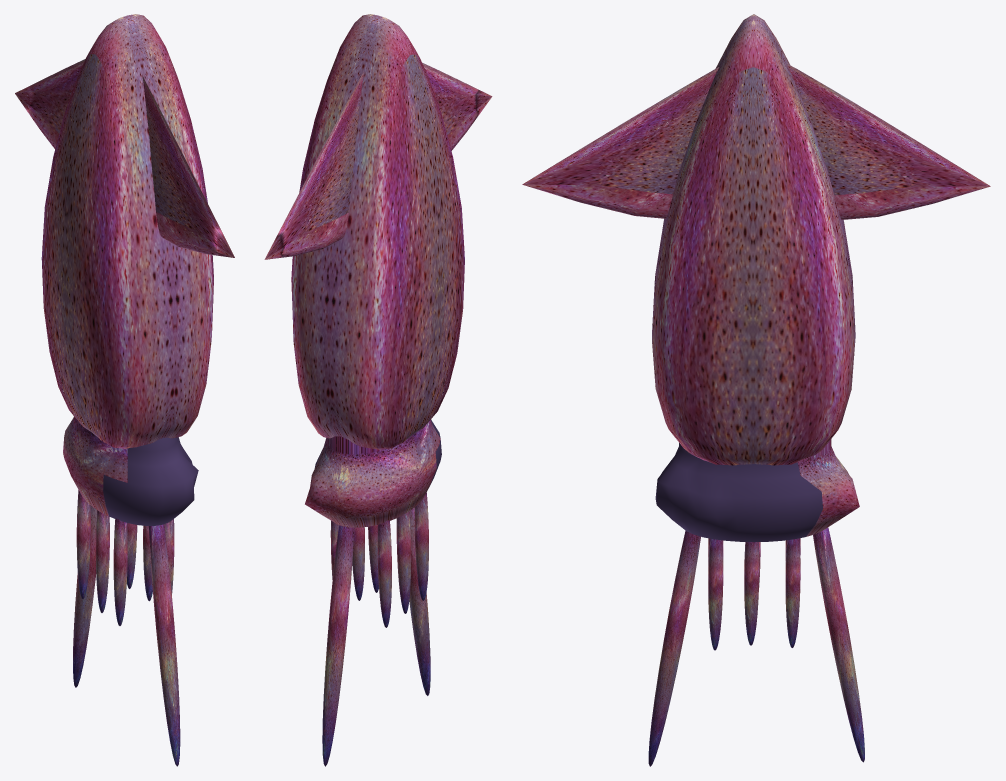
File: Purpleback Squid.glb
3 views of the same model, side by side, from view 1: azimuth 30°, elevation 25°; view 2: azimuth 150°, elevation 25°; view 3: azimuth 270°, elevation 25° (orthographic). The views are drawn at different scales.
Parts seen in each view (by area): view 1: Cube, Sphere, Cube.001, Sphere.001, Sphere.002, Sphere.003, Sphere.005, Sphere.004, Sphere.006, Sphere.007, Sphere.008; view 2: Cube, Sphere, Cube.001, Sphere.002, Sphere.001, Sphere.005, Sphere.003, Sphere.004, Sphere.007, Sphere.008; view 3: Cube, Cube.001, Sphere, Sphere.001, Sphere.002, Sphere.008, Sphere.006, Sphere.007.
Boxes of the visible parts, bbox=[...] form: Cube: bbox=[41, 14, 213, 448]; Sphere: bbox=[63, 416, 198, 525]; Cube.001: bbox=[15, 59, 234, 257]; Sphere.001: bbox=[148, 524, 180, 766]; Sphere.002: bbox=[73, 505, 96, 687]; Sphere.003: bbox=[113, 518, 127, 625]; Sphere.005: bbox=[76, 490, 90, 598]; Sphere.004: bbox=[96, 510, 109, 612]; Sphere.006: bbox=[127, 523, 137, 588]; Sphere.007: bbox=[143, 525, 152, 601]; Sphere.008: bbox=[164, 519, 174, 594]; Cube: bbox=[291, 14, 464, 449]; Sphere: bbox=[305, 419, 441, 527]; Cube.001: bbox=[264, 63, 492, 259]; Sphere.002: bbox=[322, 525, 354, 766]; Sphere.001: bbox=[409, 507, 430, 695]; Sphere.005: bbox=[377, 520, 391, 627]; Sphere.003: bbox=[414, 492, 428, 600]; Sphere.004: bbox=[396, 511, 411, 613]; Sphere.007: bbox=[352, 527, 364, 600]; Sphere.008: bbox=[368, 525, 378, 592]; Cube: bbox=[652, 14, 855, 465]; Cube.001: bbox=[522, 63, 990, 219]; Sphere: bbox=[655, 439, 859, 542]; Sphere.001: bbox=[648, 530, 700, 766]; Sphere.002: bbox=[813, 527, 864, 762]; Sphere.008: bbox=[708, 538, 723, 650]; Sphere.006: bbox=[785, 538, 800, 647]; Sphere.007: bbox=[744, 542, 759, 645].
Size of the model in its own units: 0.4082 by 2.22 by 1.26.
Materials: 11 (11 with a texture image).
